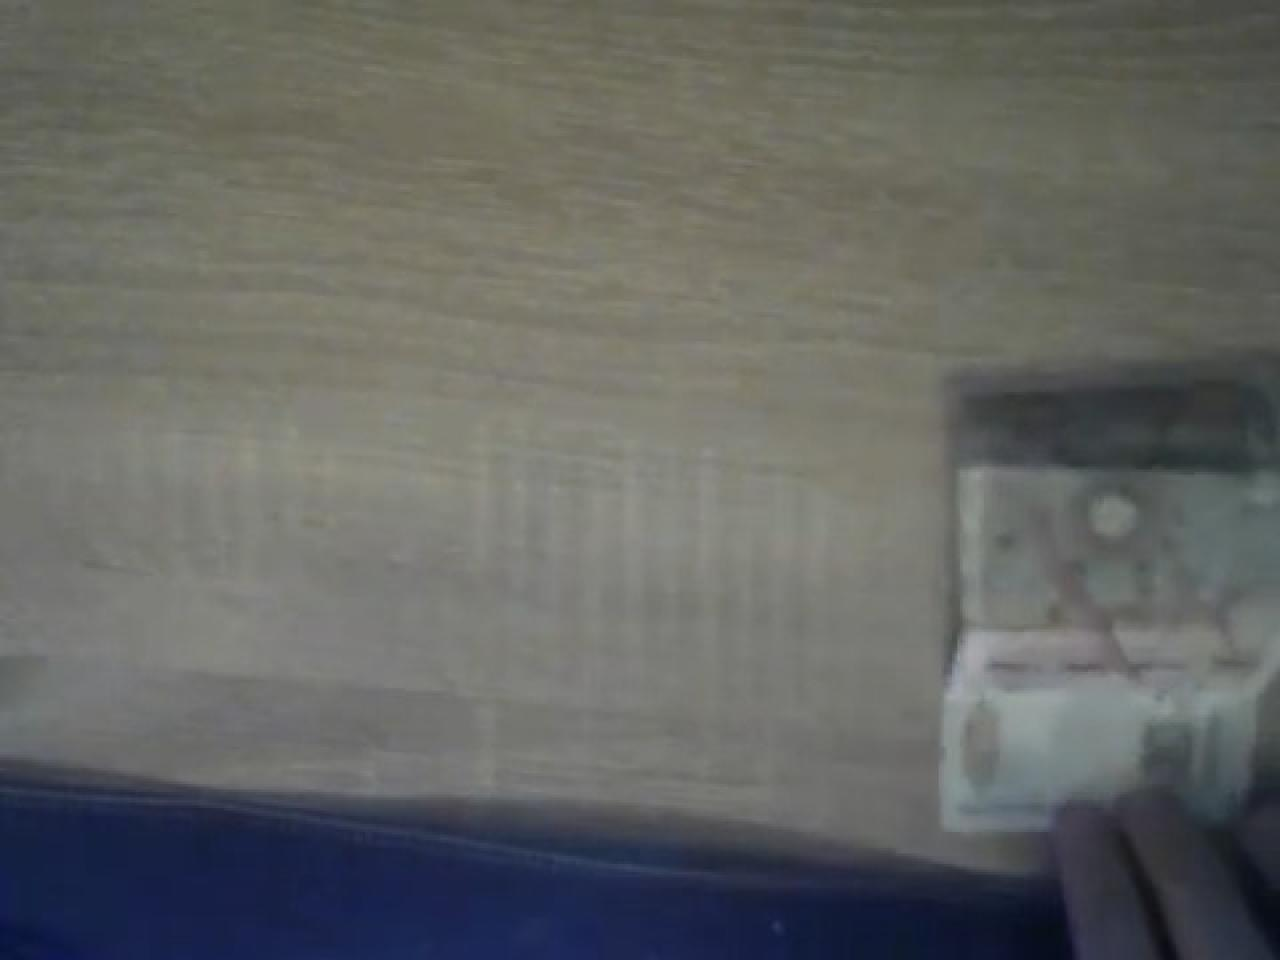10leva: (936, 384, 1280, 835)
